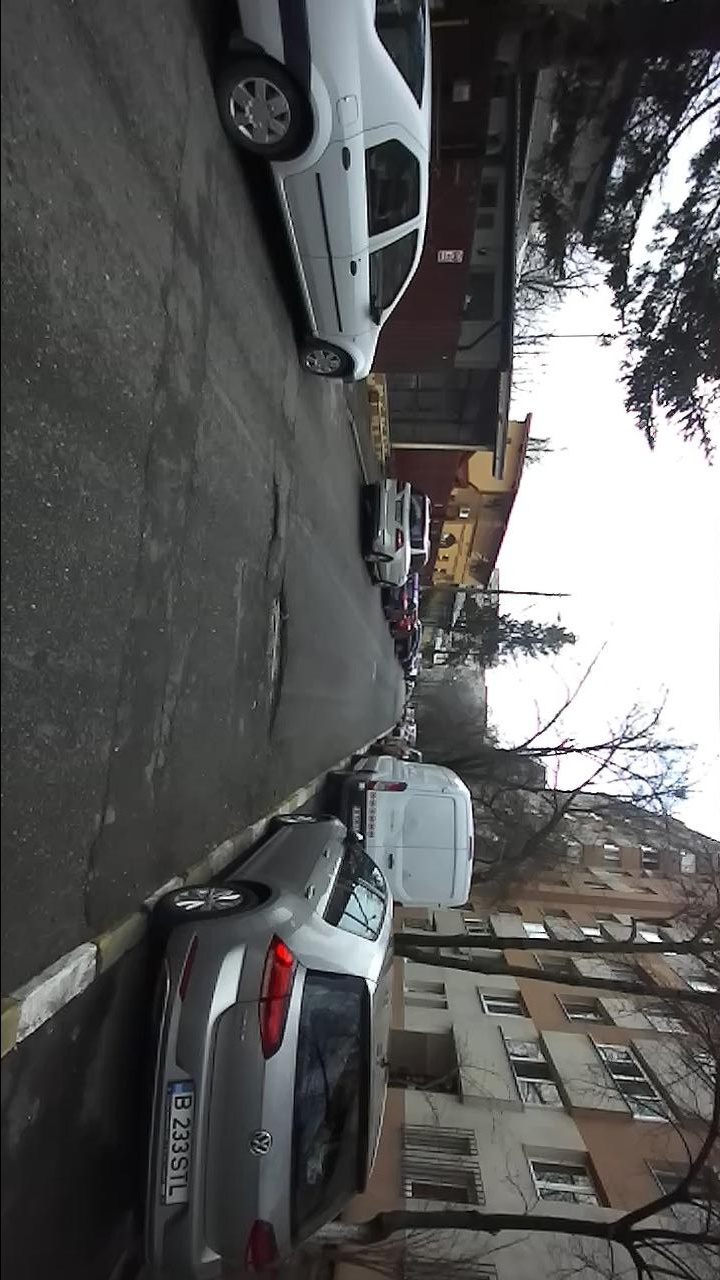pothole: (260, 583, 292, 740), (77, 775, 110, 924), (263, 469, 283, 550)
